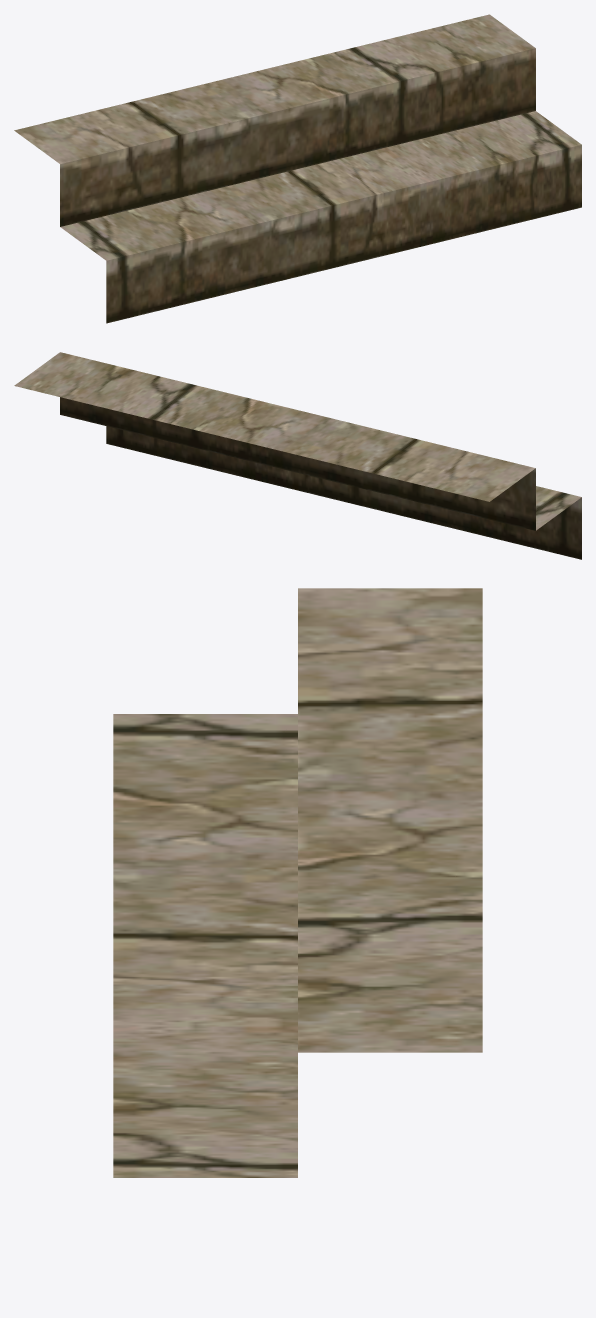
Rendered from OVERHILL_A_01_OBJECT243.fbx.
The picture shows the model from 3 angles, top to bottom: view 1: azimuth 30°, elevation 25°; view 2: azimuth 150°, elevation 25°; view 3: azimuth 270°, elevation 25°; orthographic projection. The views are drawn at different scales.
Visible parts, largest first — view 1: OVERHILL_A_01_OBJECT243; view 2: OVERHILL_A_01_OBJECT243; view 3: OVERHILL_A_01_OBJECT243.
Boxes of the visible parts, box(x1,y1,x2,y2) form: OVERHILL_A_01_OBJECT243: box(14, 14, 581, 323); OVERHILL_A_01_OBJECT243: box(14, 352, 581, 559); OVERHILL_A_01_OBJECT243: box(113, 588, 482, 1177).
Size of the model in its own units: 23797 by 6000 by 8000.
1 material, 1 textured.
